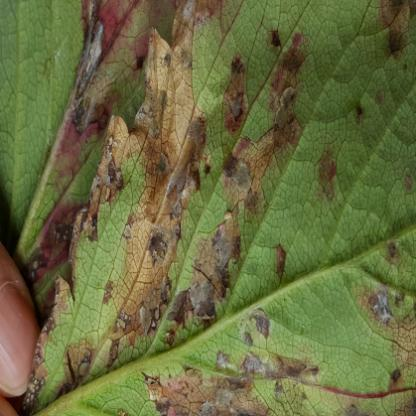Strawberry_Angular_LeafSpot: (17, 0, 415, 415), (0, 0, 178, 325)
